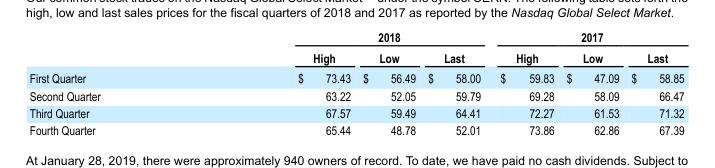table: (28, 29, 683, 136)
table column: (28, 29, 198, 136), (198, 29, 356, 136), (489, 29, 559, 136), (421, 29, 489, 136), (356, 29, 421, 136), (559, 29, 624, 136), (624, 29, 683, 136)
table column header: (28, 29, 683, 67)
table row: (28, 46, 683, 67), (28, 67, 683, 86), (28, 29, 683, 46), (28, 86, 683, 103), (28, 103, 683, 120), (28, 120, 683, 136)
table spanning cell: (198, 29, 489, 46), (489, 29, 683, 46)
